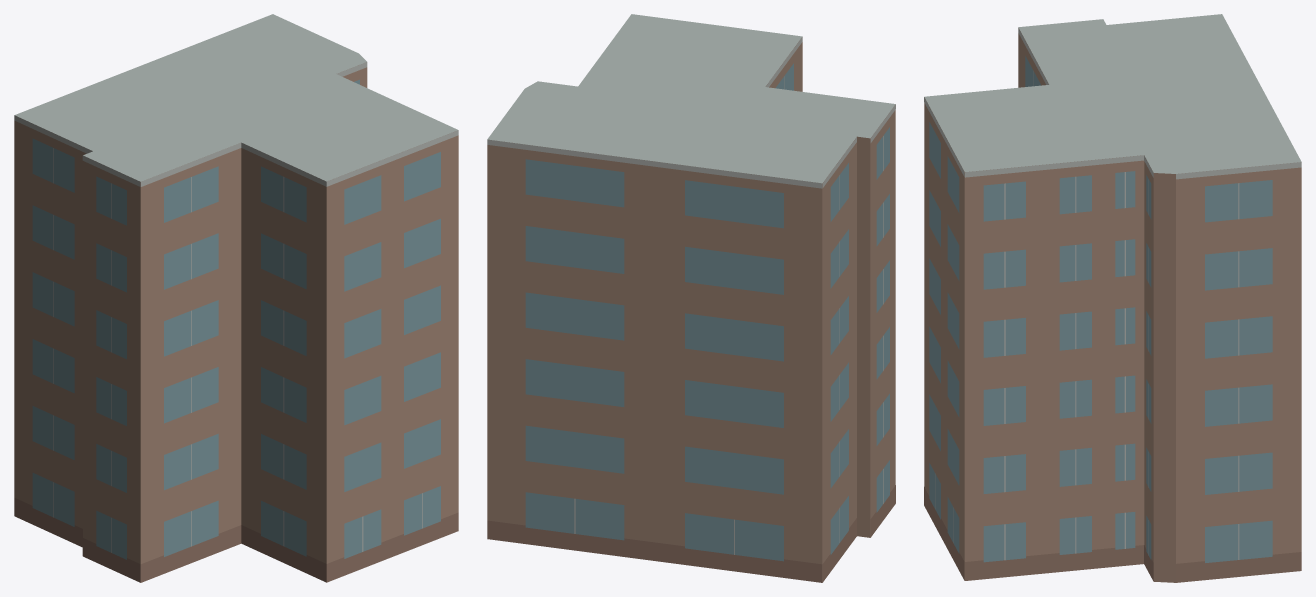
The model's file is survey-upis-32672166.glb.
3 renders of one model, left to right at view 1: azimuth 30°, elevation 25°; view 2: azimuth 150°, elevation 25°; view 3: azimuth 270°, elevation 25°, orthographic. The views are drawn at different scales.
Parts seen in each view (by area): view 1: survey-upis-32672166.tmp; view 2: survey-upis-32672166.tmp; view 3: survey-upis-32672166.tmp.
Part boxes in pixels (x1,y1,x2,y2): survey-upis-32672166.tmp: (14,14,458,582); survey-upis-32672166.tmp: (487,14,895,582); survey-upis-32672166.tmp: (924,14,1301,582).
Bounding box in the file's own units: 15.45 × 18.4 × 15.41.
